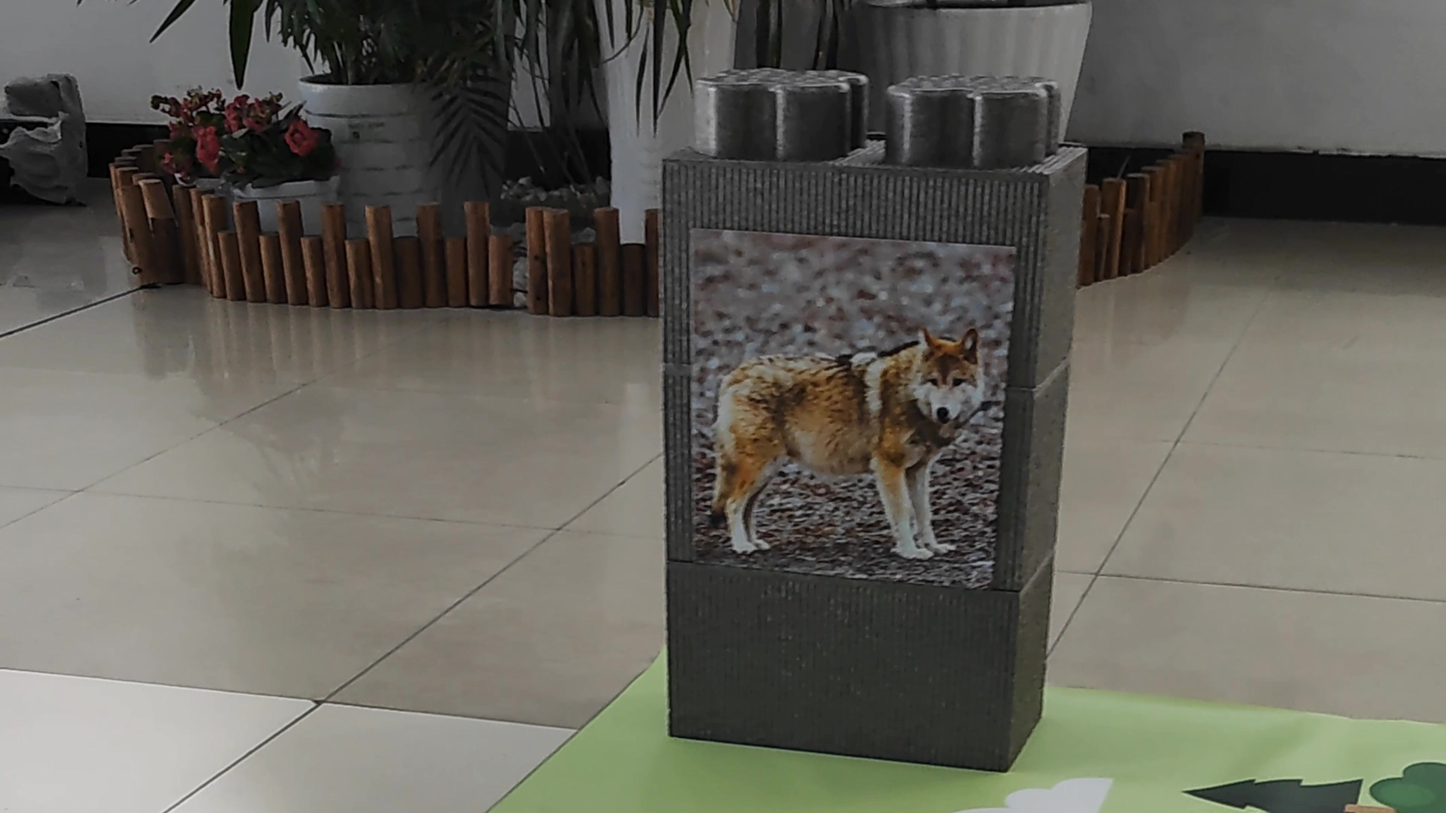wolf: (697, 323, 1014, 592)
